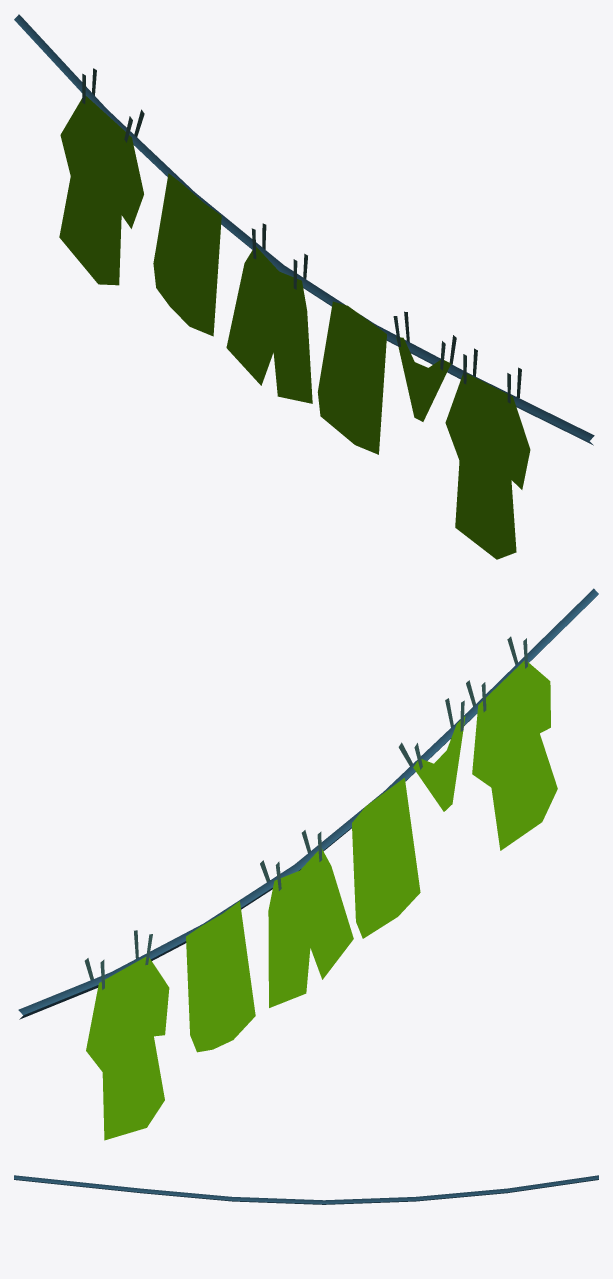
Rendered from ClothesLine02Night.glb.
The picture shows the model from 3 angles, top to bottom: view 1: azimuth 30°, elevation 25°; view 2: azimuth 150°, elevation 25°; view 3: azimuth 270°, elevation 25°; orthographic projection. The views are drawn at different scales.
Visible parts, largest first — view 1: ClothesLine02Night; view 2: ClothesLine02Night; view 3: ClothesLine02Night.
Part boxes in pixels (x1=…): ClothesLine02Night: x1=14, y1=14, x2=594, y2=559; ClothesLine02Night: x1=18, y1=588, x2=598, y2=1140; ClothesLine02Night: x1=14, y1=1175, x2=598, y2=1204.
Size of the model in its own units: 0.3102 by 1.95 by 10.39.
Materials: 2 (1 with a texture image).
